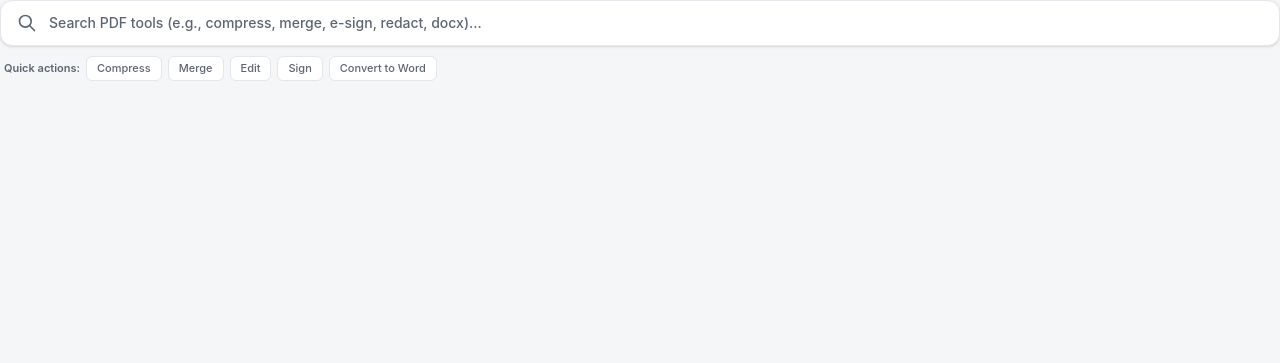
Test: UI Redesign Component Tests › ToolSearch Component › matches tools using synonyms like 'combine' for merge
This screenshot has width=1280, height=363.
Replace the text in the search field with placeholder "Search PDF tools" with "combine": (656, 23) [49, 13, 1263, 33]
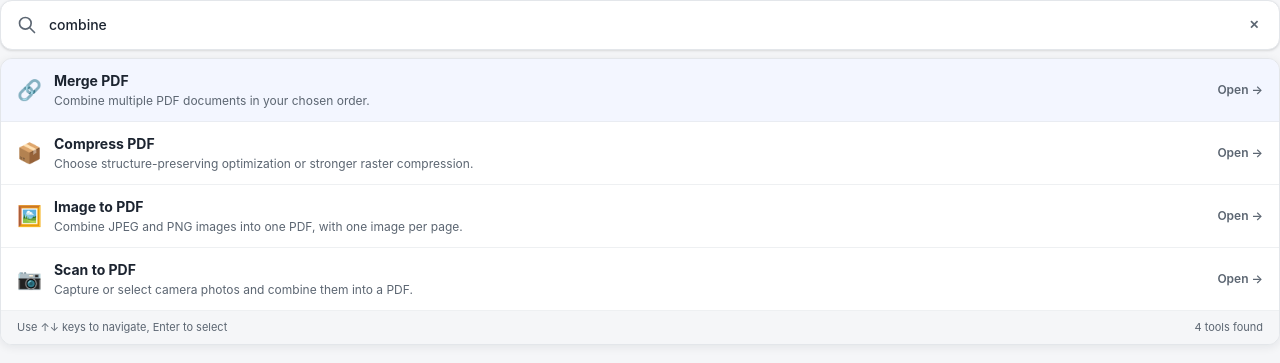
Expected: the text "Merge PDF" is shown, [54, 71, 129, 91]
